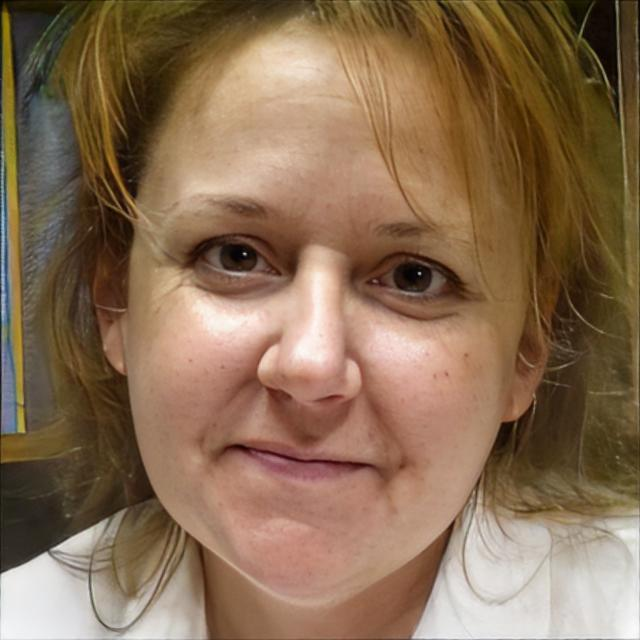content: (119, 10, 536, 611)
